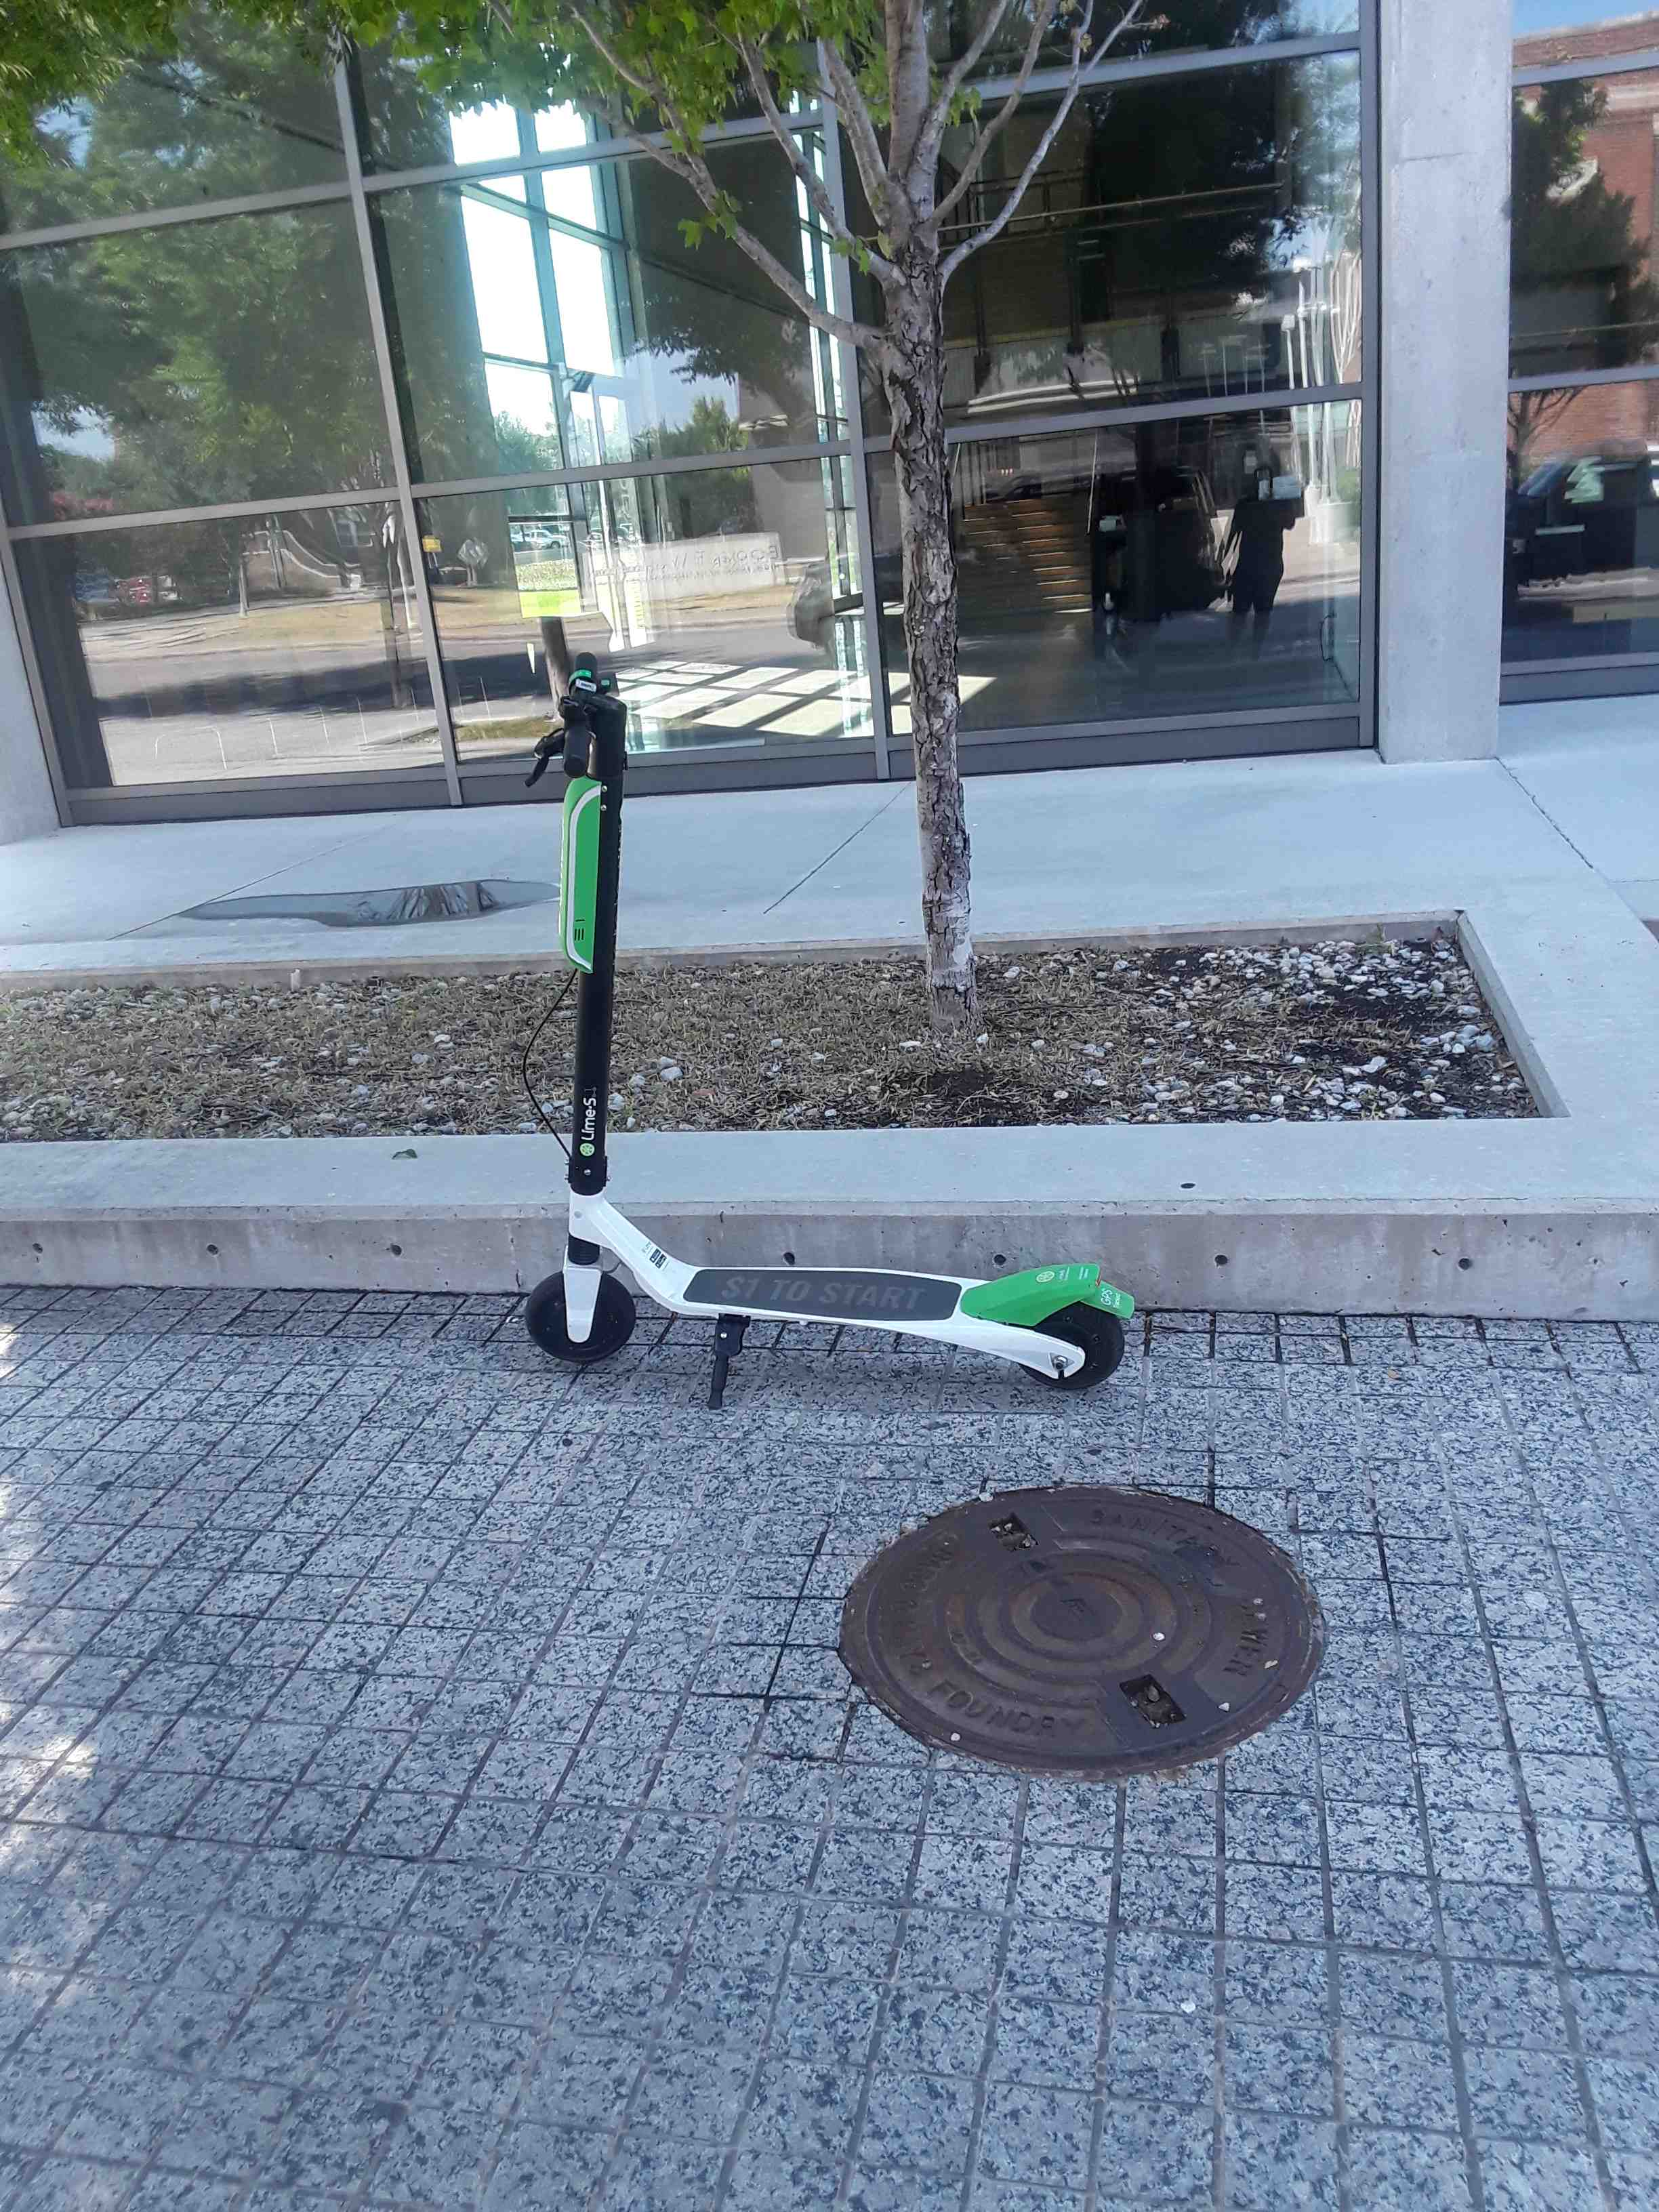scooter: (415, 632, 1148, 1430)
